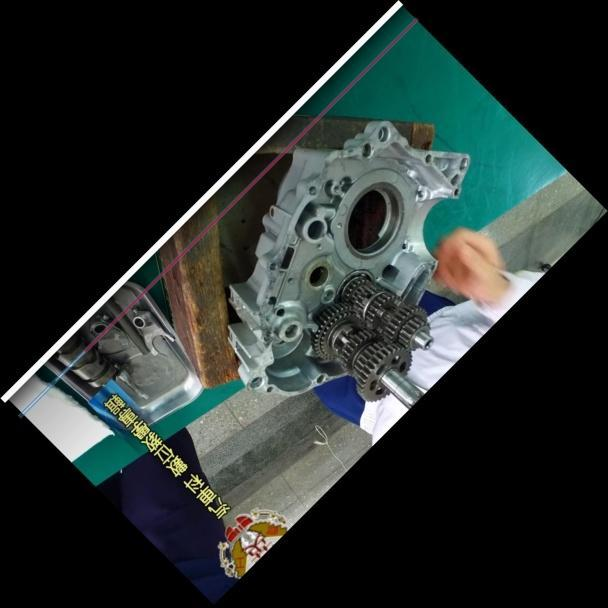hole: (355, 140, 375, 160), (264, 258, 279, 273), (328, 181, 341, 195), (333, 219, 344, 230), (284, 275, 295, 286), (312, 242, 323, 252)
